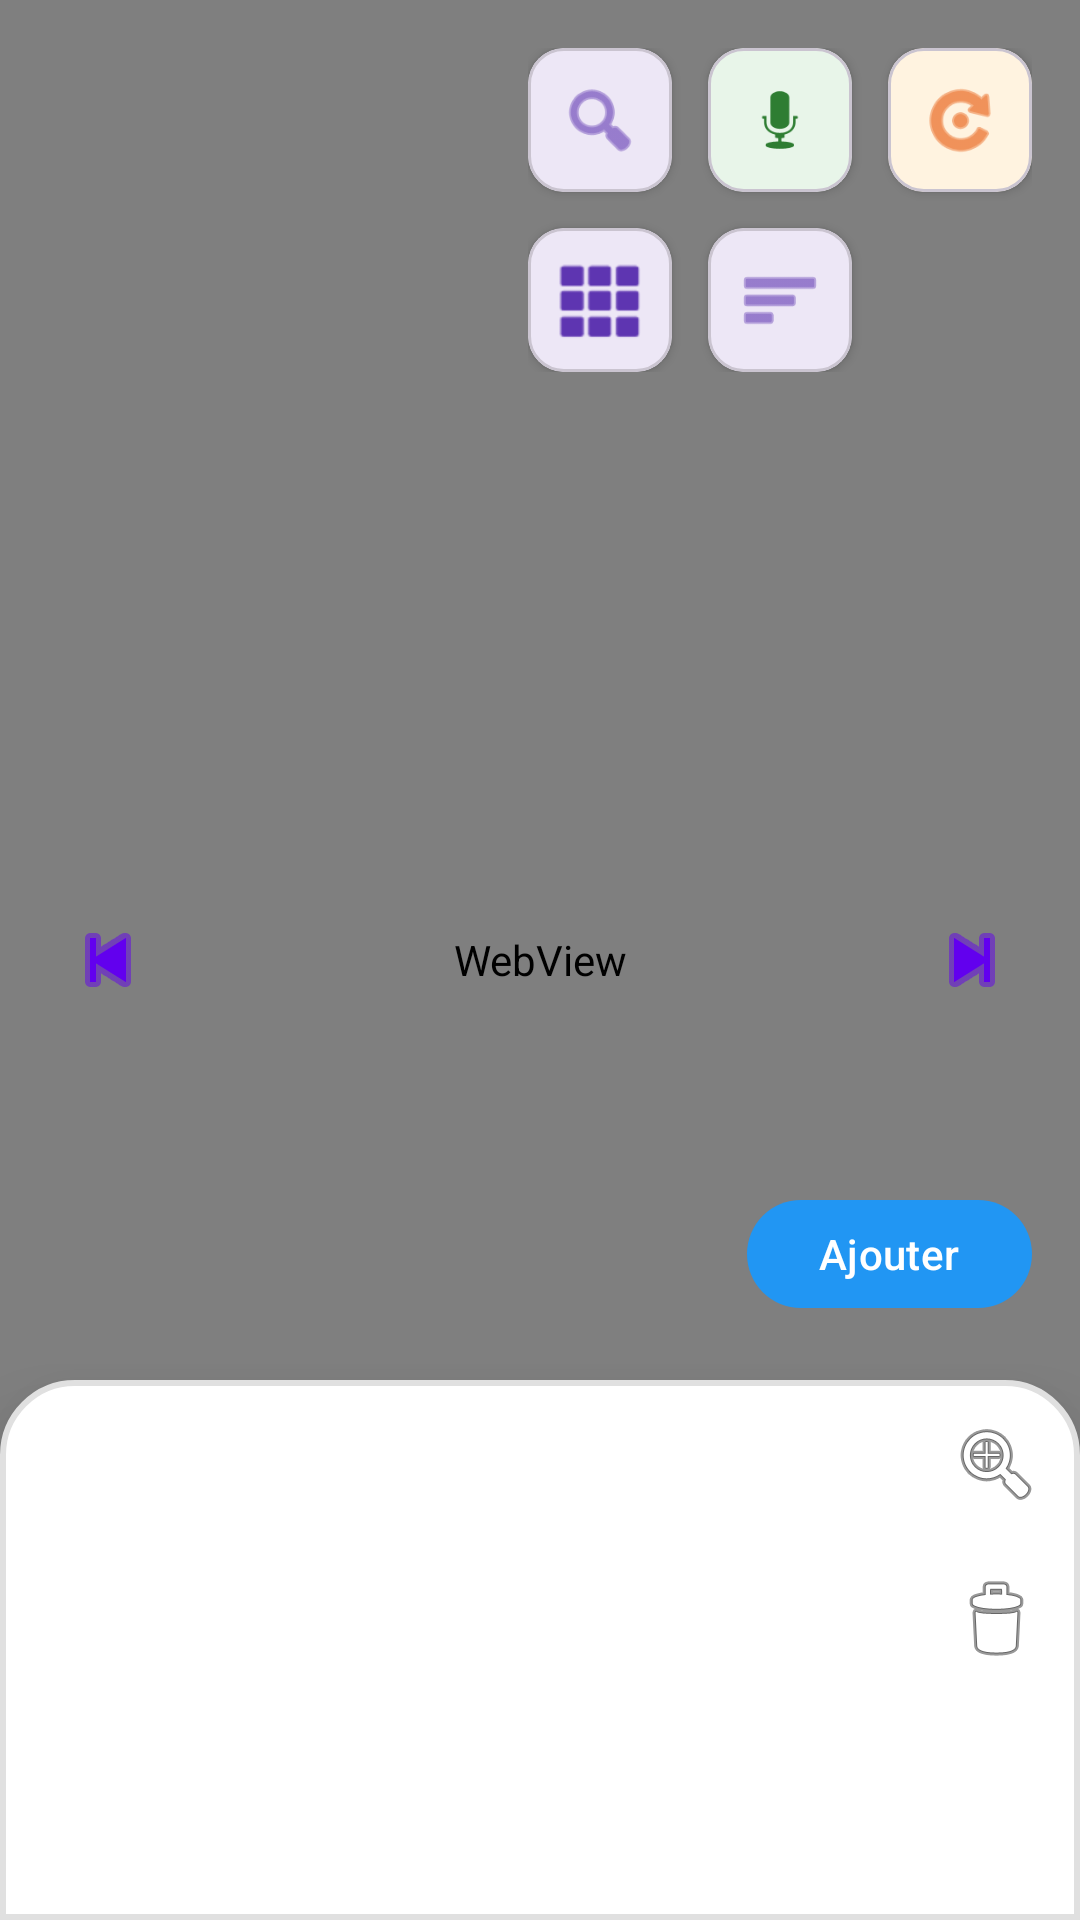

Icons on this 1080*1920 Android screen, each with its box as (x1, y1, x2, y2):
delete: (969, 1581, 1024, 1656)
dialer: (528, 228, 672, 372)
next: (949, 933, 995, 987)
previous: (85, 933, 131, 987)
rotate: (888, 48, 1032, 192)
search: (528, 48, 672, 192)
sort by size: (708, 228, 852, 372)
speak now: (708, 48, 852, 192)
zoom: (960, 1429, 1032, 1500)
